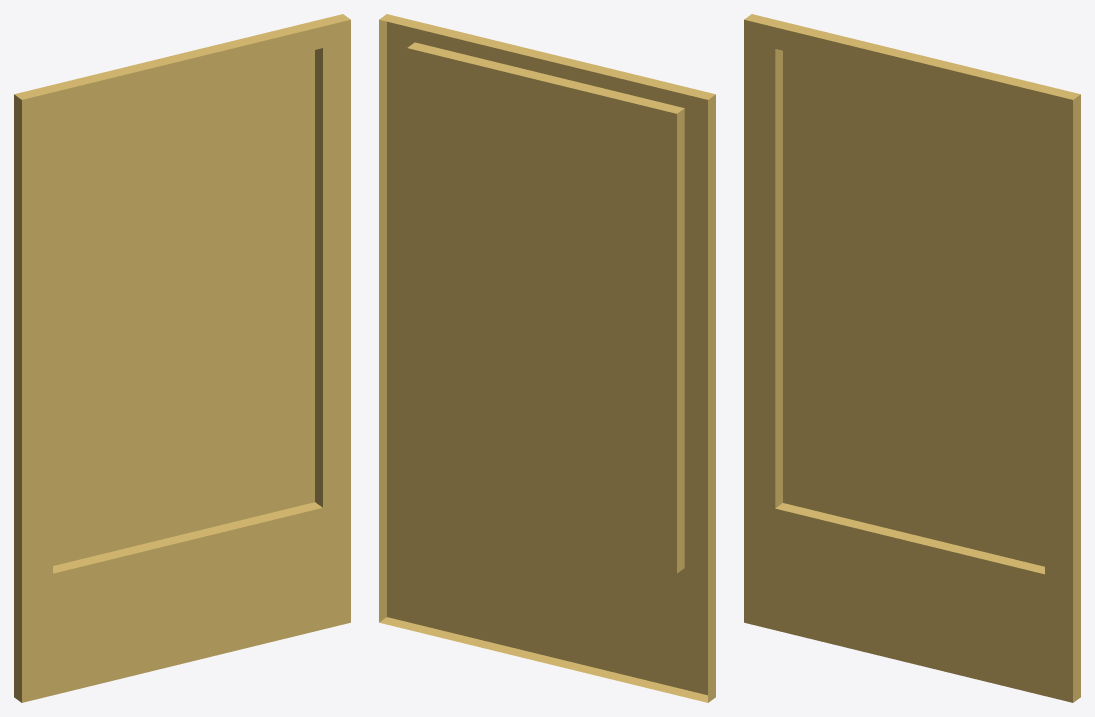
Rendered from model_Window_low.fbx.
3 renders of one model, left to right at view 1: azimuth 30°, elevation 25°; view 2: azimuth 150°, elevation 25°; view 3: azimuth 330°, elevation 25°, orthographic.
Parts seen in each view (by area): view 1: pasted__polySurface2; view 2: pasted__polySurface2; view 3: pasted__polySurface2.
Part boxes in pixels (box(x1,y1,x2,y2)): pasted__polySurface2: box(14, 14, 350, 702); pasted__polySurface2: box(379, 14, 715, 702); pasted__polySurface2: box(744, 14, 1080, 702).
Size of the model in its own units: 90.52 by 158 by 3.7.
